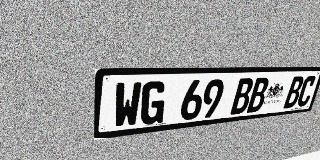6: (179, 79, 206, 121)
9: (200, 79, 225, 118)
B: (230, 78, 255, 115), (246, 77, 270, 113), (283, 76, 305, 108)
C: (295, 76, 317, 107)
G: (139, 81, 167, 125)
W: (113, 82, 142, 129)
